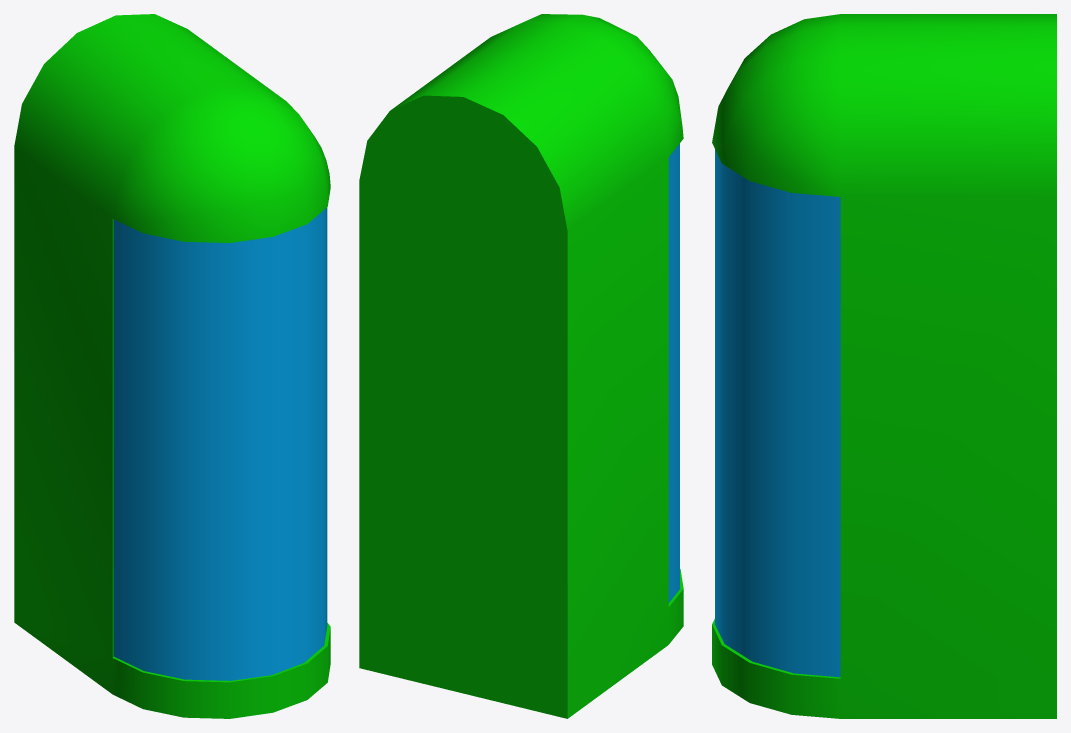
The picture shows the model from 3 angles, left to right: view 1: azimuth 30°, elevation 25°; view 2: azimuth 150°, elevation 25°; view 3: azimuth 270°, elevation 25°; orthographic projection. The views are drawn at different scales.
Visible parts, largest first — view 1: Circle.001; view 2: Circle.001; view 3: Circle.001.
Boxes of the visible parts, x1,y1,x2,y2 form: Circle.001: (14,14,330,718); Circle.001: (359,14,683,718); Circle.001: (712,14,1056,718).
Bounding box in the file's own units: 200 × 547 × 268.
